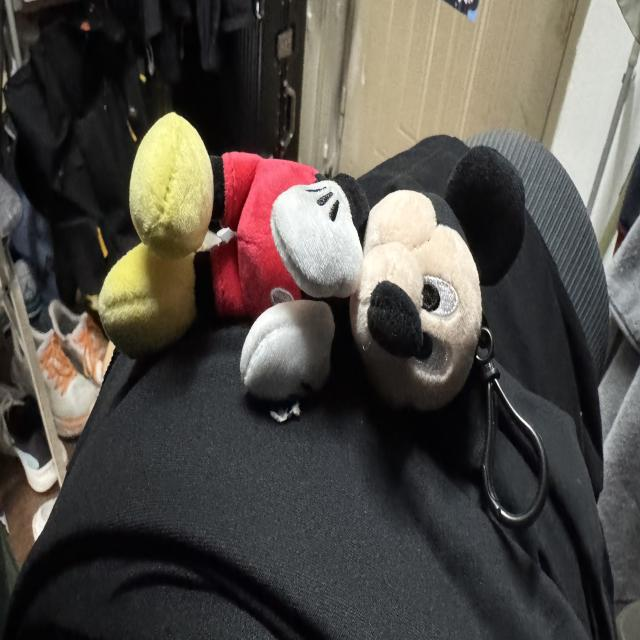mickey: (100, 115, 523, 409)
